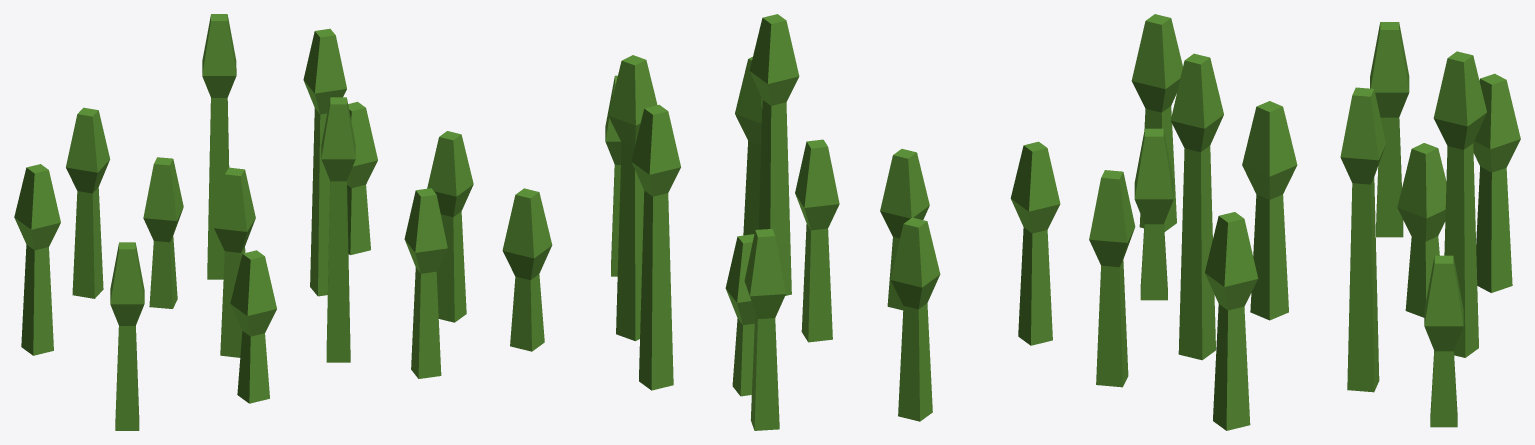
Rendered from crop_wheat_young.glb.
3 views of the same model, side by side, from view 1: azimuth 30°, elevation 25°; view 2: azimuth 150°, elevation 25°; view 3: azimuth 270°, elevation 25° (orthographic). The views are drawn at different scales.
Visible parts, largest first — view 1: crops_wheatStageA; view 2: crops_wheatStageA; view 3: crops_wheatStageA.
Boxes of the visible parts, x1=… form: crops_wheatStageA: x1=14, y1=14, x2=473, y2=430; crops_wheatStageA: x1=502, y1=14, x2=1060, y2=430; crops_wheatStageA: x1=1089, y1=14, x2=1520, y2=430.
Bounding box in the file's own units: 0.8055 × 0.5 × 0.6669.
